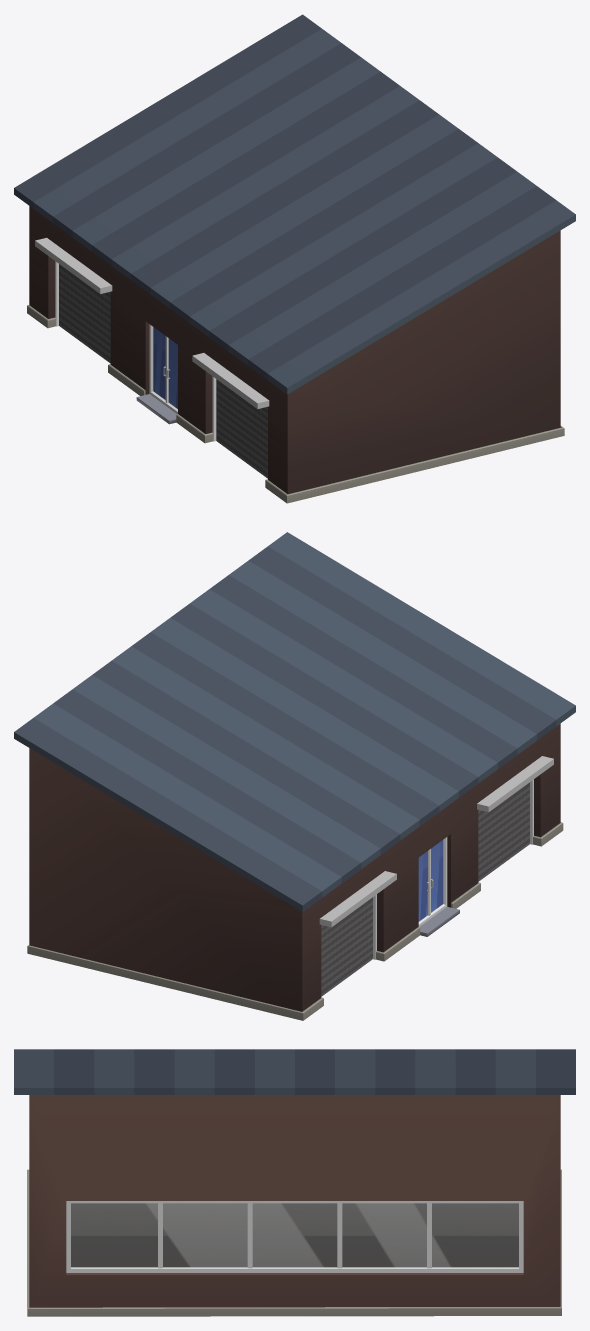
The model's file is Building_Factory_2_B.glb.
3 renders of one model, top to bottom at view 1: azimuth 30°, elevation 25°; view 2: azimuth 150°, elevation 25°; view 3: azimuth 270°, elevation 25°, orthographic. The views are drawn at different scales.
Parts seen in each view (by area): view 1: Building_Factory_2_B; view 2: Building_Factory_2_B; view 3: Building_Factory_2_B.
Part boxes in pixels (x1,y1,x2,y2): Building_Factory_2_B: (14, 14, 575, 503); Building_Factory_2_B: (14, 532, 575, 1020); Building_Factory_2_B: (14, 1049, 575, 1316).
Bounding box in the file's own units: 9.1 × 6.69 × 14.73.
4 materials, 4 textured.
